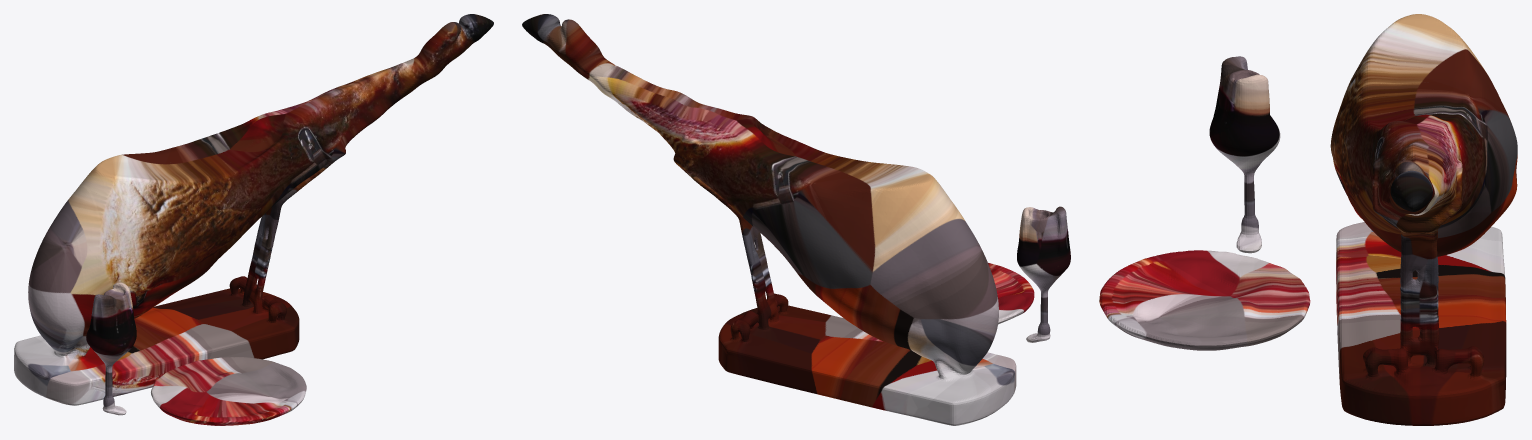
The model's file is jamon.glb.
The picture shows the model from 3 angles, left to right: view 1: azimuth 30°, elevation 25°; view 2: azimuth 150°, elevation 25°; view 3: azimuth 270°, elevation 25°; orthographic projection. The views are drawn at different scales.
Parts seen in each view (by area): view 1: world; view 2: world; view 3: world.
Boxes of the visible parts, left/top/right/bottom form: world: left=14, top=14, right=493, bottom=425; world: left=522, top=14, right=1070, bottom=425; world: left=1099, top=14, right=1517, bottom=425.
Size of the model in its own units: 1.99 by 1.11 by 1.11.
Materials: 1 (1 with a texture image).
